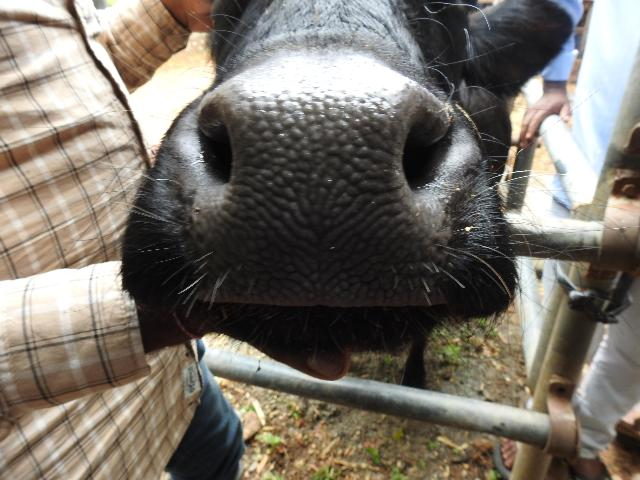Muzzle: (232, 82, 400, 288)
